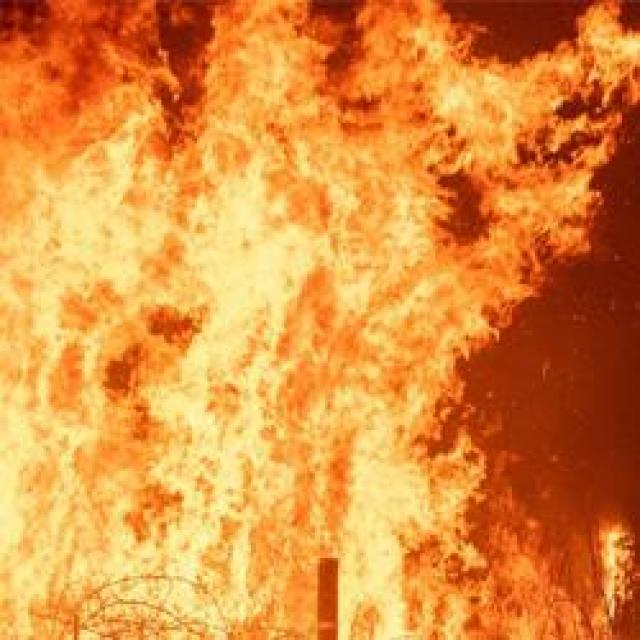fire: (4, 139, 198, 635), (248, 378, 436, 636), (216, 8, 352, 310)
